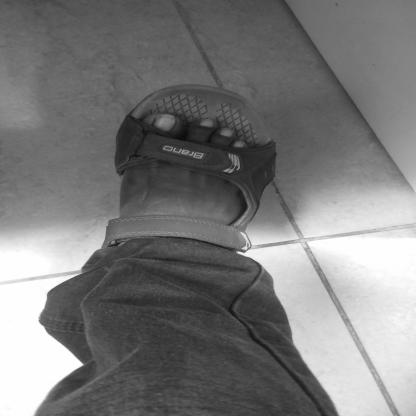ankle: (166, 229, 174, 234)
heel: (109, 250, 113, 253)
pinky: (255, 153, 266, 159)
right_foot: (106, 87, 277, 281)
toe: (160, 119, 169, 125)
